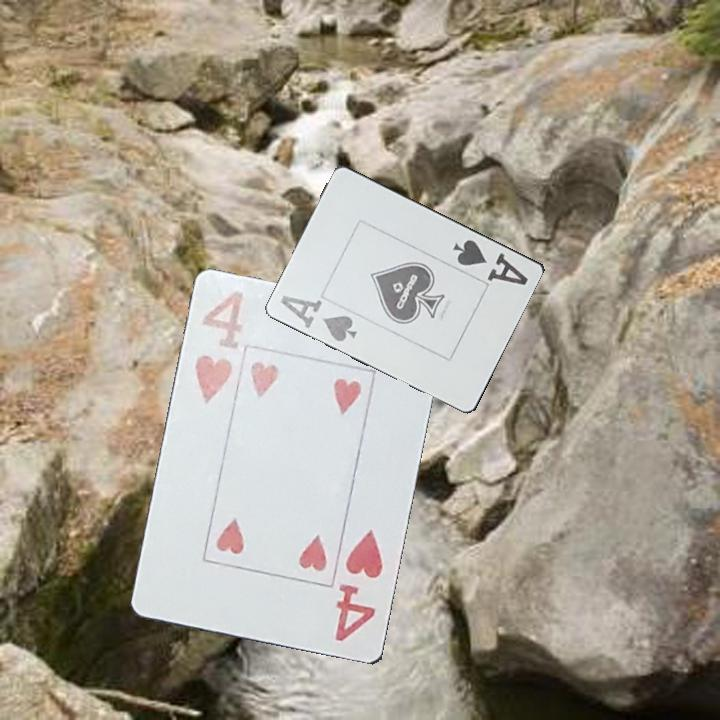4h: (331, 526, 387, 645), (191, 288, 247, 407)
As: (277, 291, 360, 344), (449, 236, 532, 288)
